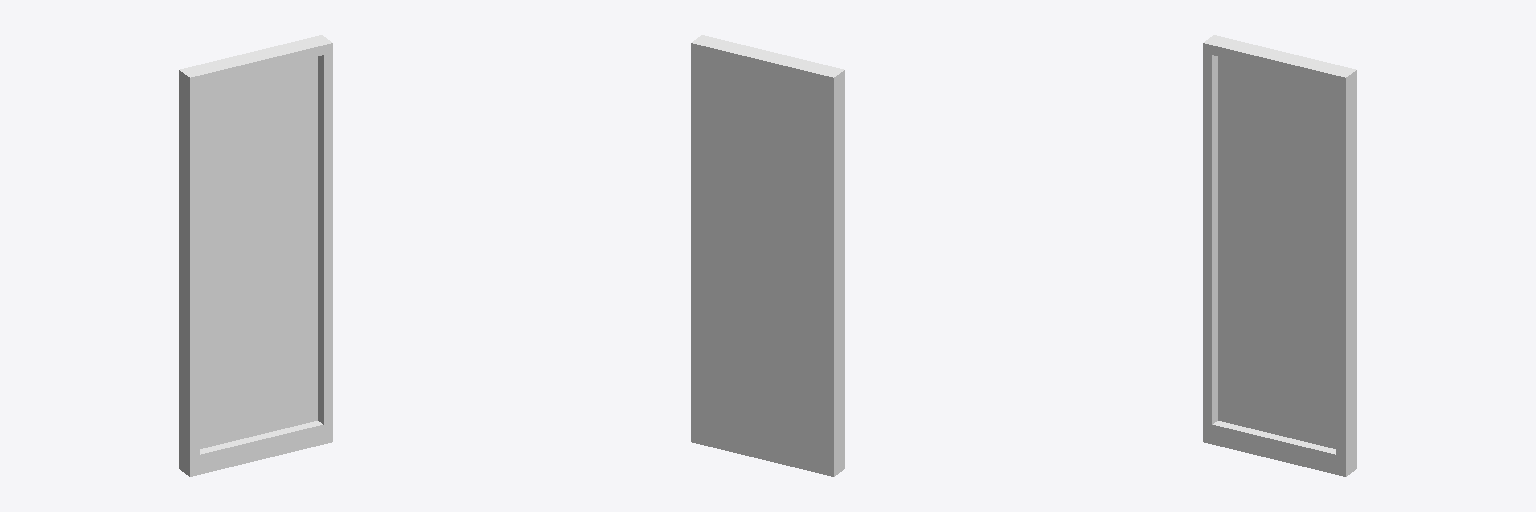
File: mirror.obj
3 renders of one model, left to right at view 1: azimuth 30°, elevation 25°; view 2: azimuth 150°, elevation 25°; view 3: azimuth 330°, elevation 25°, orthographic.
Visible parts, largest first — view 1: object 1; view 2: object 1; view 3: object 1.
Boxes of the visible parts, box(x1,y1,x2,y2) form: object 1: box(179, 35, 332, 476); object 1: box(691, 35, 844, 476); object 1: box(1203, 35, 1356, 476).
Size of the model in its own units: 1.5 by 4 by 0.2.